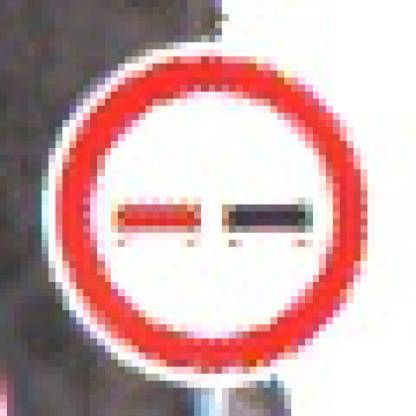No Overtaking: (43, 36, 382, 382)
